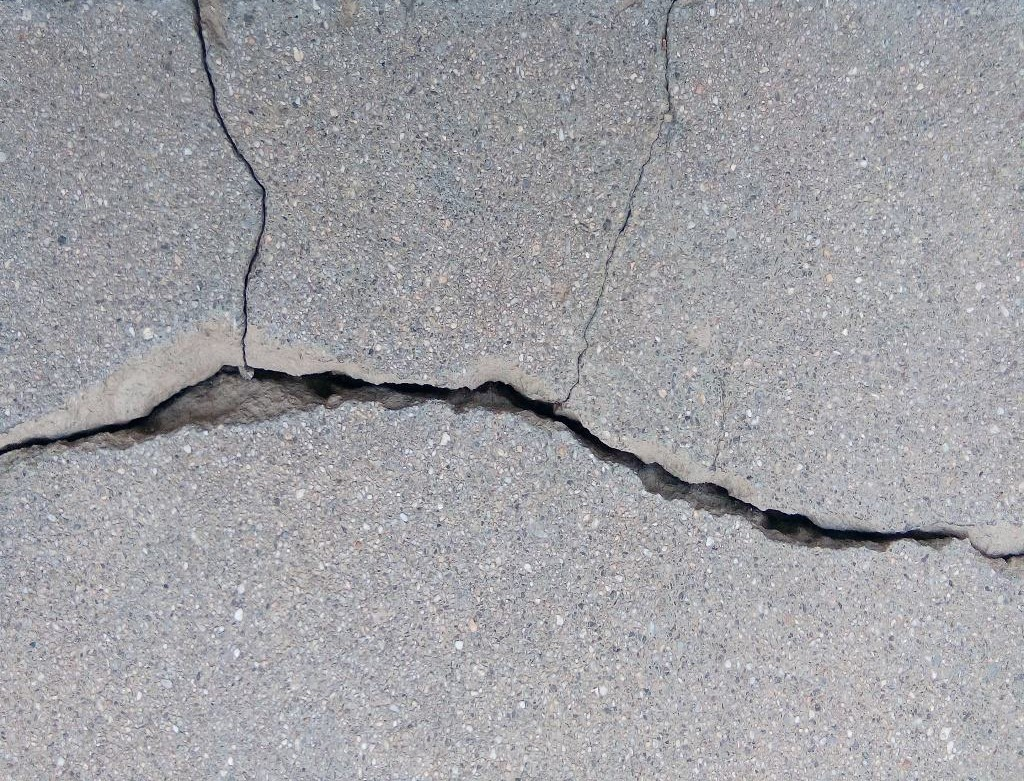Crack: (1, 367, 1024, 560), (558, 1, 675, 405), (194, 1, 266, 367)
